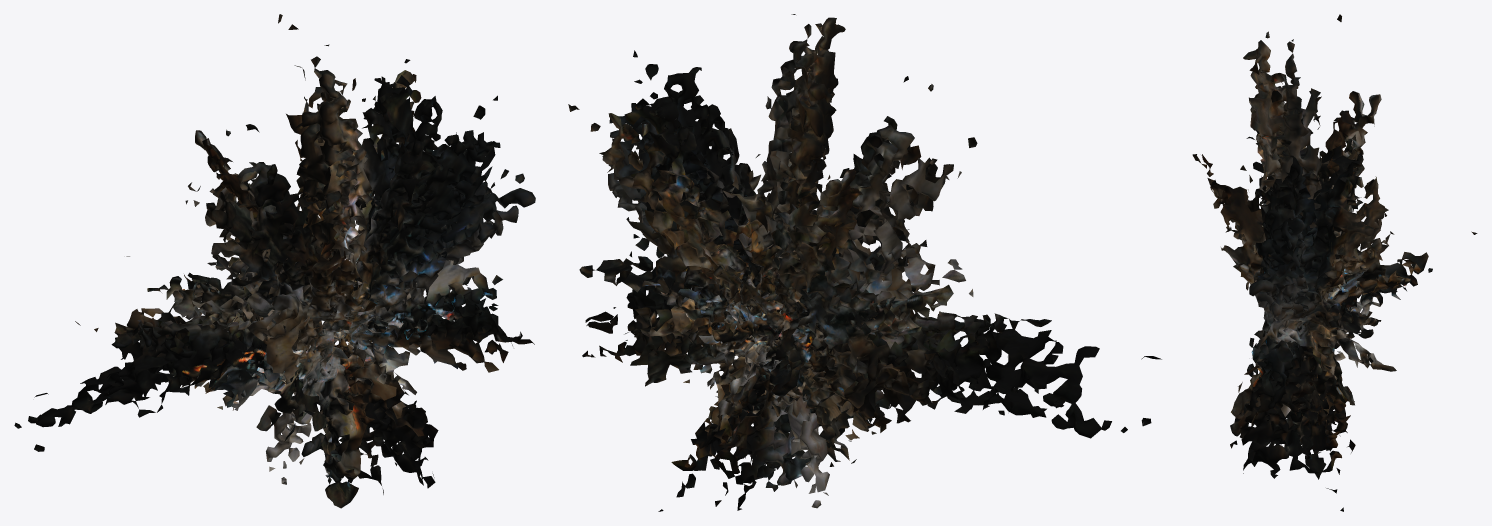
The picture shows the model from 3 angles, left to right: view 1: azimuth 30°, elevation 25°; view 2: azimuth 150°, elevation 25°; view 3: azimuth 270°, elevation 25°; orthographic projection. The views are drawn at different scales.
Visible parts, largest first — view 1: mesh; view 2: mesh; view 3: mesh.
Part boxes in pixels (<box>): mesh: <box>14,14,535,508</box>; mesh: <box>568,14,1161,511</box>; mesh: <box>1192,14,1477,511</box>.
Bounding box in the file's own units: 11.54 × 10.22 × 5.95.
Materials: 1 (1 with a texture image).
